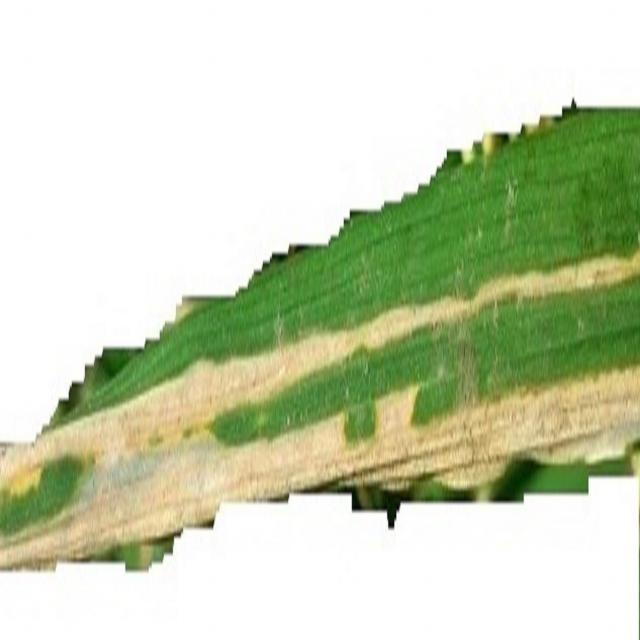bacterial_leaf_blight: (0, 237, 639, 576)
